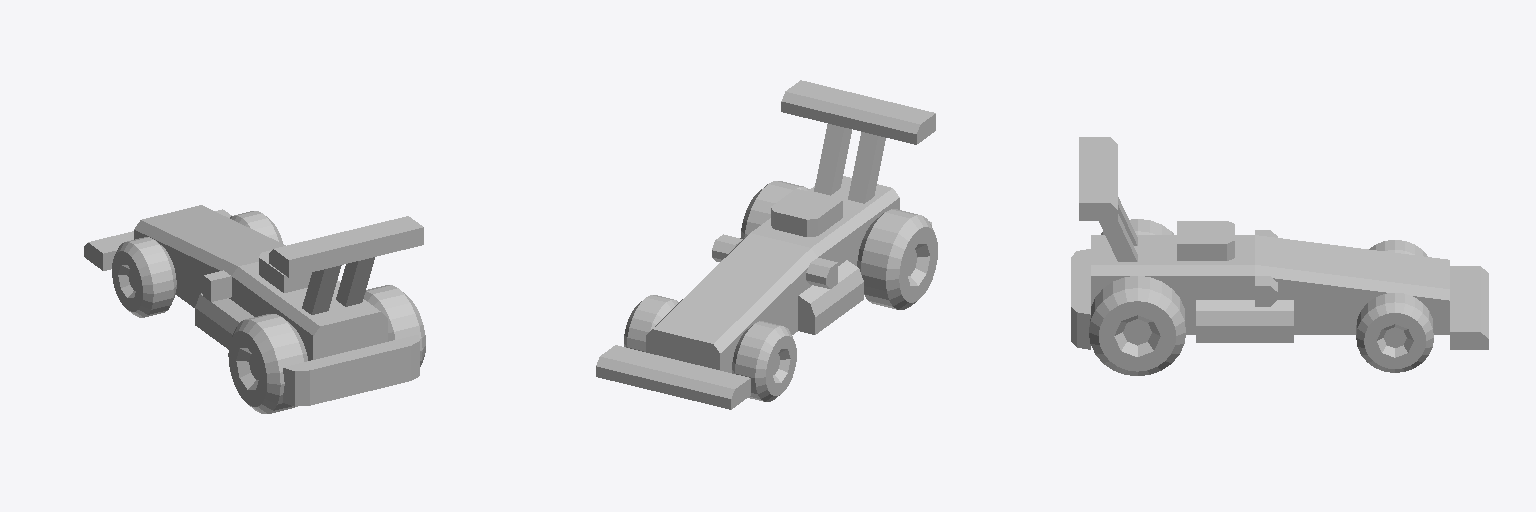
File: vehicle-drag-racer.obj
3 renders of one model, left to right at view 1: azimuth 30°, elevation 25°; view 2: azimuth 150°, elevation 25°; view 3: azimuth 270°, elevation 25°, orthographic.
Parts seen in each view (by area): view 1: vehicle-drag-racer, wheel-bl, wheel-fl, wheel-br, wheel-fr; view 2: vehicle-drag-racer, wheel-bl, wheel-fl, wheel-fr, wheel-br; view 3: vehicle-drag-racer, wheel-br, wheel-fr, wheel-fl.
Part boxes in pixels (x1,y1,x2,y2): vehicle-drag-racer: (84,205,423,406); wheel-bl: (228,314,307,413); wheel-fl: (112,237,176,317); wheel-br: (364,285,425,366); wheel-fr: (230,211,282,243); vehicle-drag-racer: (596,80,935,409); wheel-bl: (857,209,937,309); wheel-fl: (732,321,796,401); wheel-fr: (624,295,678,351); wheel-br: (740,181,809,238); vehicle-drag-racer: (1071,137,1488,349); wheel-br: (1089,276,1185,375); wheel-fr: (1356,293,1433,372); wheel-fl: (1369,240,1427,256).
Bounding box in the file's own units: 0.5875 × 0.6062 × 1.34.